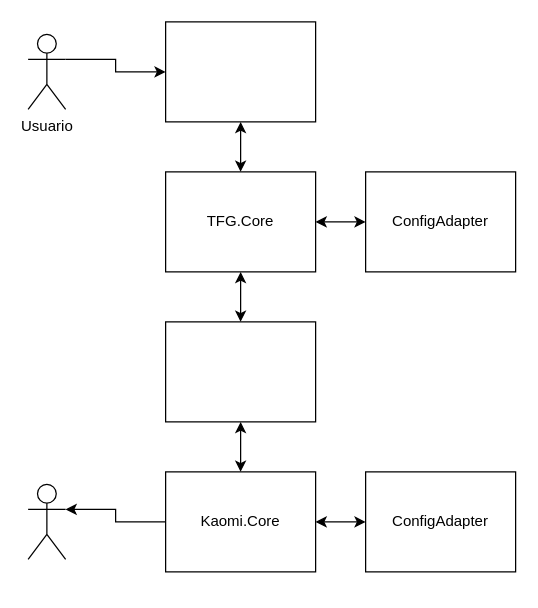
Some shapes in this 538 by 608 pixel diagram are drawn without their labels. Here are the shapes that lost their labels. From the top down, the centre of each, then its label:
the point at 240,71: TFG.UWP
the point at 240,371: Kaomi.WebAPI
the point at 46,521: Sensor
